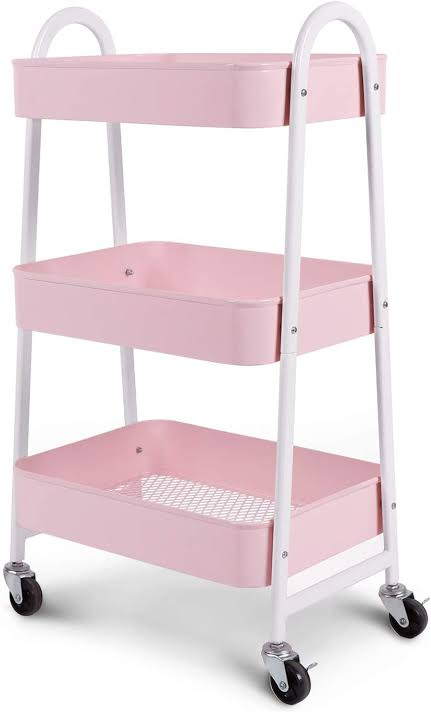Carts: (4, 2, 430, 706)
